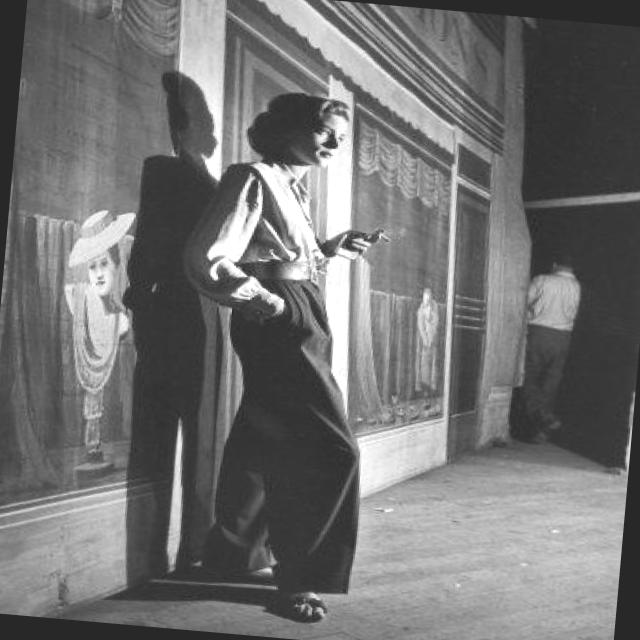smoke: (378, 232, 392, 244)
